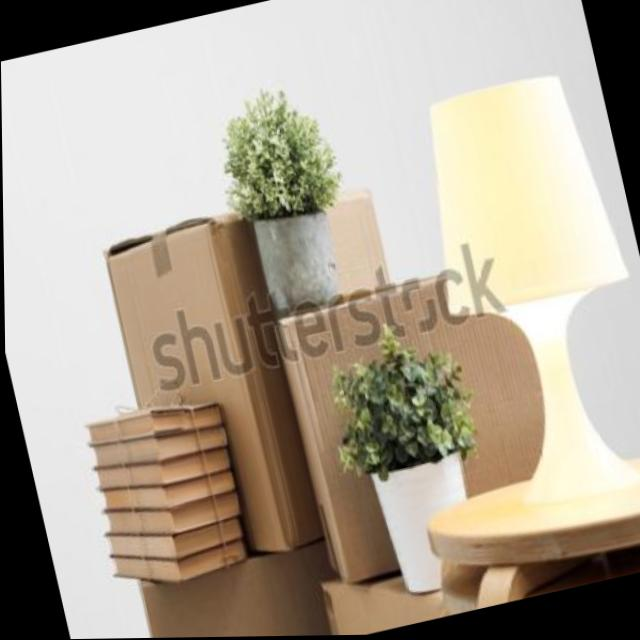box: (268, 255, 575, 596), (98, 205, 317, 569), (128, 542, 335, 639), (315, 551, 444, 636)
